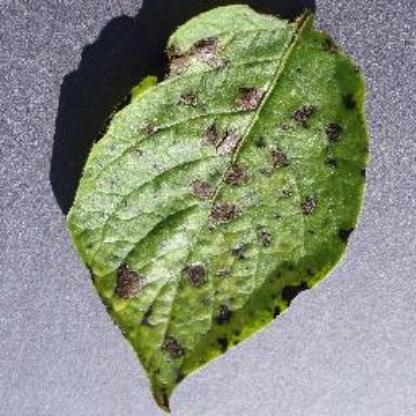Early-Blight: (68, 6, 380, 406)
